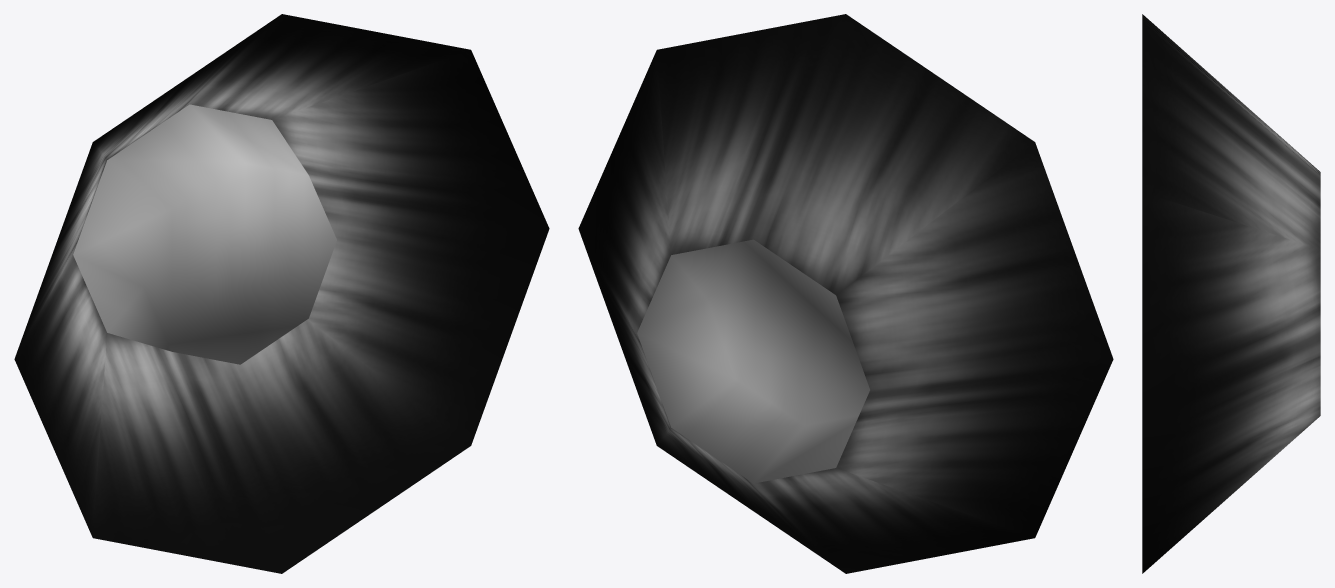
File: Light_Flat_alarm_lightcone.FBX
The picture shows the model from 3 angles, left to right: view 1: azimuth 30°, elevation 25°; view 2: azimuth 150°, elevation 25°; view 3: azimuth 270°, elevation 25°; orthographic projection. The views are drawn at different scales.
Parts seen in each view (by area): view 1: Light_Flat_alarm_lightcone; view 2: Light_Flat_alarm_lightcone; view 3: Light_Flat_alarm_lightcone.
Part boxes in pixels (x1=…): Light_Flat_alarm_lightcone: x1=14, y1=14, x2=549, y2=573; Light_Flat_alarm_lightcone: x1=578, y1=14, x2=1113, y2=573; Light_Flat_alarm_lightcone: x1=1142, y1=14, x2=1320, y2=573.
Size of the model in its own units: 60.29 by 60.29 by 18.02.
